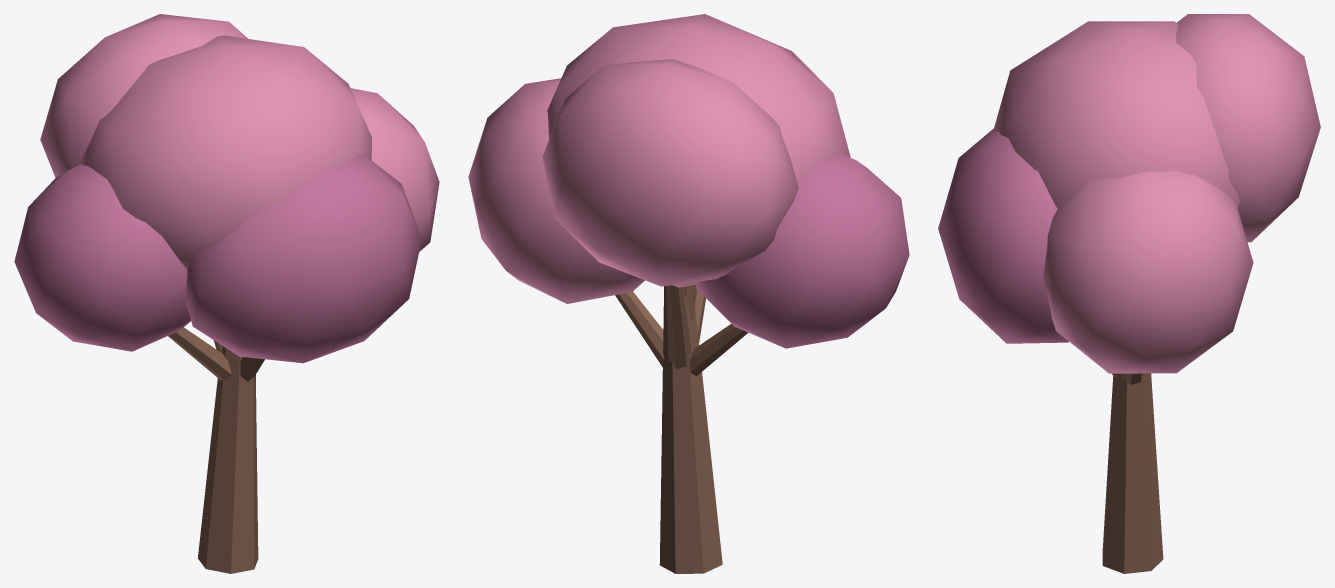
Rendered from stylized_tree_large_01.glb.
3 views of the same model, side by side, from view 1: azimuth 30°, elevation 25°; view 2: azimuth 150°, elevation 25°; view 3: azimuth 270°, elevation 25° (orthographic). The views are drawn at different scales.
Parts seen in each view (by area): view 1: stylized_tree_large_01; view 2: stylized_tree_large_01; view 3: stylized_tree_large_01.
Boxes of the visible parts, x1,y1,x2,y2 form: stylized_tree_large_01: [14, 14, 439, 573]; stylized_tree_large_01: [468, 14, 909, 573]; stylized_tree_large_01: [938, 14, 1320, 573].
Bounding box in the file's own units: 3.7 × 4.6 × 3.02.
